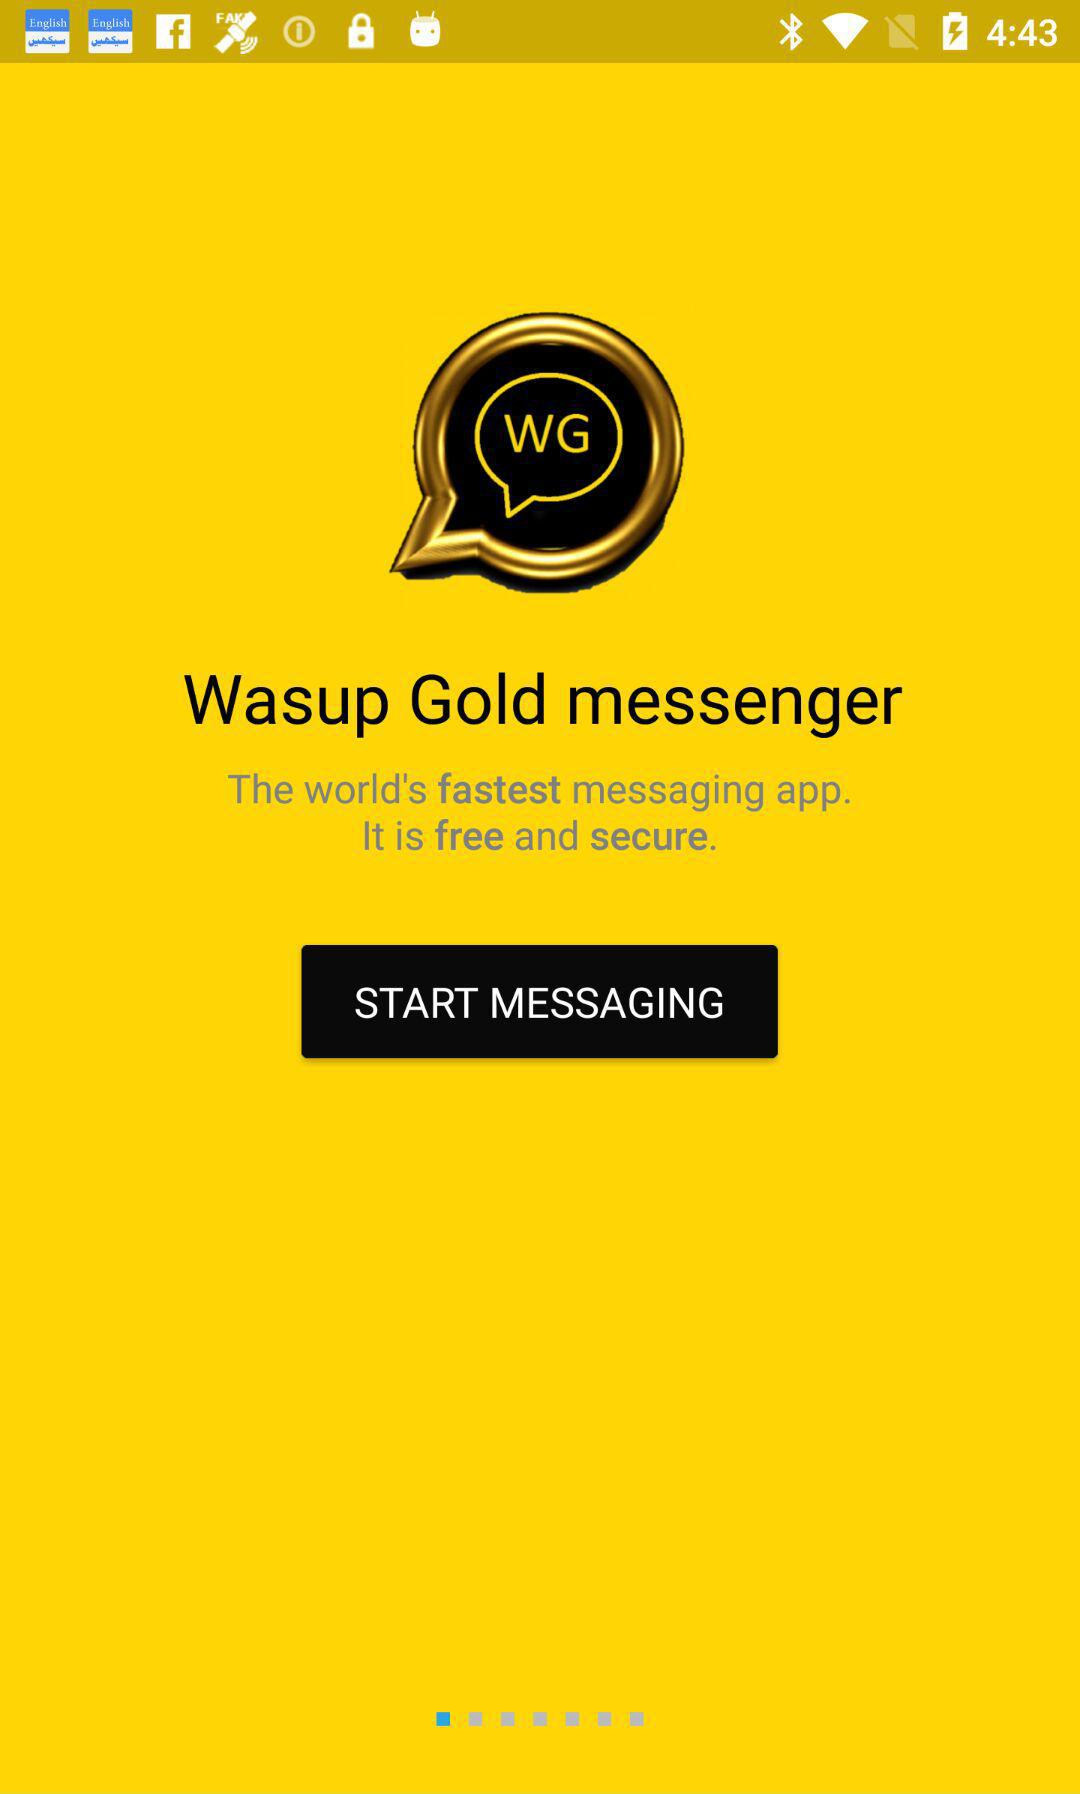Image: (386, 309, 688, 597)
PageIndicator: (436, 1709, 646, 1727)
Text: (227, 770, 852, 855), (182, 670, 904, 741)
TextButton: (301, 944, 779, 1058)
UpperTaskBar: (1, 1, 1080, 64)
